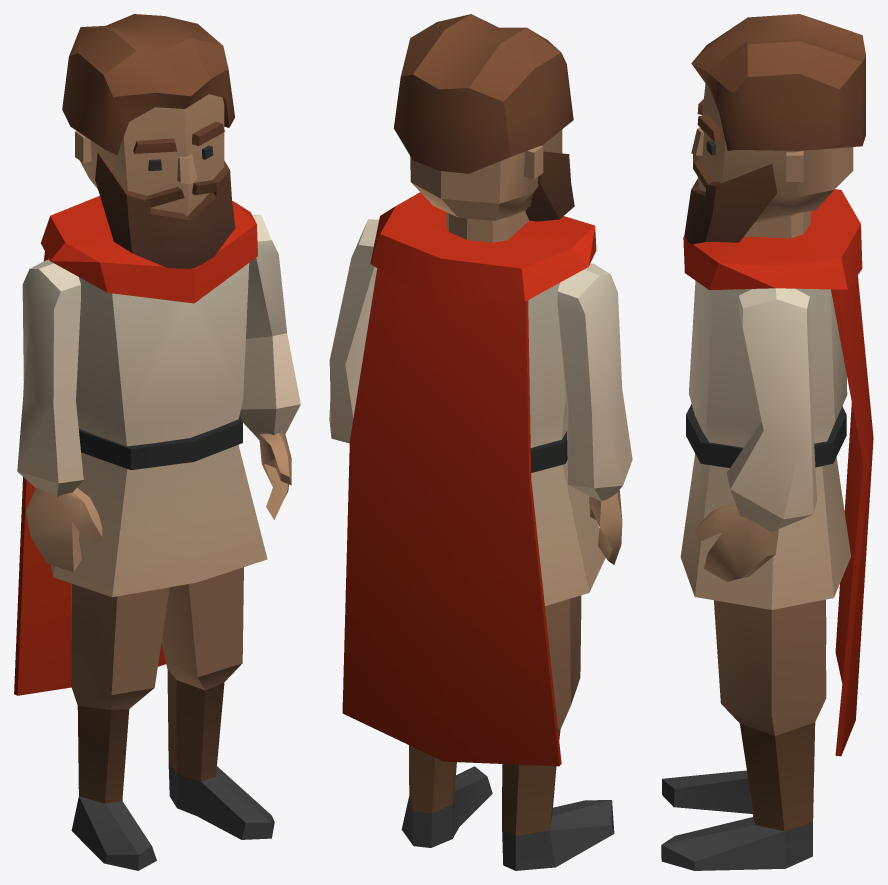
Rendered from Duke_1.fbx.
The picture shows the model from 3 angles, left to right: view 1: azimuth 30°, elevation 25°; view 2: azimuth 150°, elevation 25°; view 3: azimuth 270°, elevation 25°; orthographic projection. The views are drawn at different scales.
Visible parts, largest first — view 1: Duke_1; view 2: Duke_1; view 3: Duke_1.
Part boxes in pixels (x1,y1,x2,y2): Duke_1: [14, 14, 300, 870]; Duke_1: [329, 14, 632, 870]; Duke_1: [661, 14, 873, 870].
Bounding box in the file's own units: 44.46 × 120 × 28.69.
